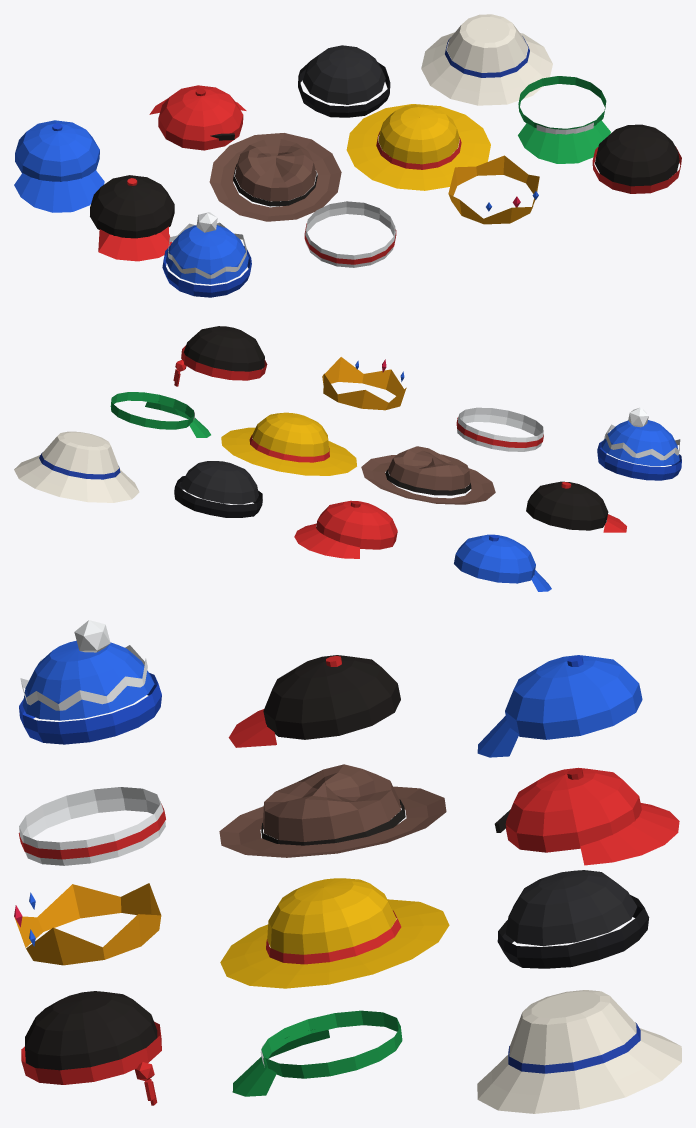
Rendered from hats_showcase.glb.
3 renders of one model, top to bottom at view 1: azimuth 30°, elevation 25°; view 2: azimuth 150°, elevation 25°; view 3: azimuth 270°, elevation 25°, orthographic. The views are drawn at different scales.
Visible parts, largest first — view 1: Hat07_Brim, Hat06_Brim, Hat04_Brim, Hat05_Crown, Hat02_Crown, Hat01_Crown, Hat12_Cap, Hat06_Crown, Hat07_Crown, Hat03_Crown, Hat04_Crown, Hat09_Crown (+14 smaller); view 2: Hat05_Crown, Hat01_Crown, Hat04_Brim, Hat02_Crown, Hat12_Cap, Hat06_Crown, Hat07_Crown, Hat07_Brim, Hat03_Crown, Hat04_Crown, Hat11_CrownGold, Hat09_Crown (+13 smaller); view 3: Hat01_Crown, Hat05_Crown, Hat04_Brim, Hat02_Crown, Hat12_Cap, Hat06_Crown, Hat07_Brim, Hat07_Crown, Hat03_Crown, Hat04_Crown, Hat11_CrownGold, Hat09_Crown (+16 smaller).
Boxes of the visible parts, x1=… form: Hat07_Brim: x1=346, y1=104, x2=490, y2=190; Hat06_Brim: x1=209, y1=133, x2=341, y2=221; Hat04_Brim: x1=421, y1=32, x2=552, y2=105; Hat05_Crown: x1=90, y1=175, x2=174, y2=238; Hat02_Crown: x1=158, y1=85, x2=243, y2=150; Hat01_Crown: x1=15, y1=120, x2=99, y2=181; Hat12_Cap: x1=595, y1=124, x2=679, y2=186; Hat06_Crown: x1=235, y1=138, x2=316, y2=201; Hat07_Crown: x1=378, y1=104, x2=459, y2=164; Hat03_Crown: x1=302, y1=45, x2=385, y2=104; Hat04_Crown: x1=446, y1=14, x2=528, y2=72; Hat09_Crown: x1=165, y1=225, x2=248, y2=284; Hat05_Crown: x1=526, y1=481, x2=608, y2=530; Hat01_Crown: x1=454, y1=534, x2=535, y2=583; Hat04_Brim: x1=14, y1=455, x2=139, y2=502; Hat02_Crown: x1=316, y1=500, x2=397, y2=549; Hat12_Cap: x1=184, y1=326, x2=264, y2=371; Hat06_Crown: x1=387, y1=446, x2=470, y2=490; Hat07_Crown: x1=252, y1=412, x2=328, y2=456; Hat07_Brim: x1=221, y1=427, x2=356, y2=475; Hat03_Crown: x1=180, y1=461, x2=258, y2=504; Hat04_Crown: x1=42, y1=431, x2=119, y2=474; Hat11_CrownGold: x1=322, y1=357, x2=406, y2=410; Hat09_Crown: x1=601, y1=420, x2=679, y2=465; Hat01_Crown: x1=505, y1=655, x2=642, y2=739; Hat05_Crown: x1=263, y1=655, x2=400, y2=739; Hat04_Brim: x1=477, y1=1028, x2=681, y2=1113; Hat02_Crown: x1=505, y1=767, x2=641, y2=852; Hat12_Cap: x1=25, y1=991, x2=157, y2=1070; Hat06_Crown: x1=263, y1=764, x2=400, y2=841; Hat07_Brim: x1=220, y1=899, x2=449, y2=988; Hat07_Crown: x1=267, y1=878, x2=396, y2=954; Hat03_Crown: x1=505, y1=870, x2=637, y2=945; Hat04_Crown: x1=509, y1=990, x2=636, y2=1065; Hat11_CrownGold: x1=14, y1=883, x2=161, y2=965; Hat09_Crown: x1=22, y1=640, x2=154, y2=720.
Bounding box in the file's own units: 3.93 × 0.5912 × 2.63.
